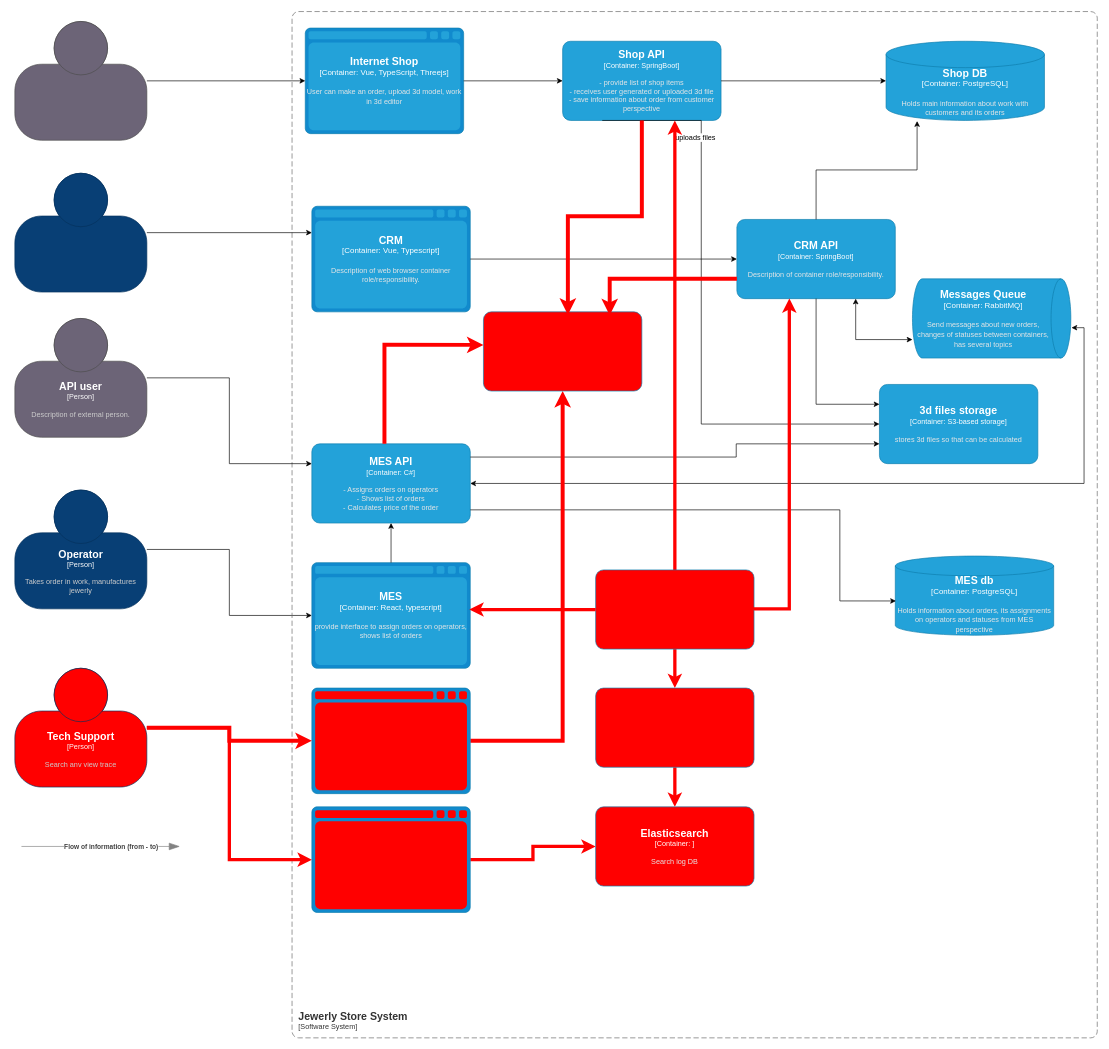
Image size: 1109x1049. Some labels were removed from this diagram. The centre of each missing label's shape, as x and y in pixels:
"Beats [Container: ] Collect logs" goes at pixel 674 609.
"Customer [Person] Description of external person." goes at pixel 80 80.
"Jaeger [Container: ] Store trace data" goes at pixel 562 351.
"Jaeger UI [Container: Trace Utility] Visualisation trace data" goes at pixel 390 740.
"Kibana [Container: UI Log View] Visualisation log data" goes at pixel 390 859.
"Logstash [Container: ] Processing logs" goes at pixel 674 727.
"Seller [Person] Operates with order, confirms manufacturing for the user" goes at pixel 80 232.
